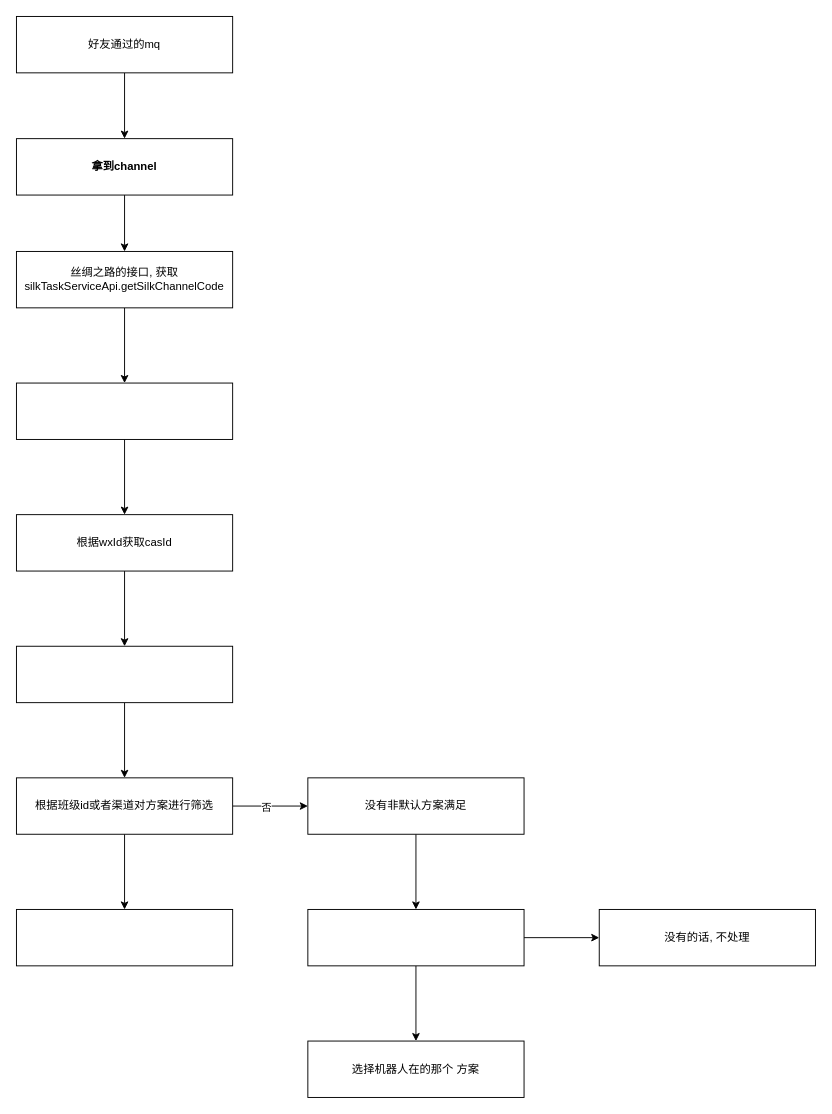
Image size: 832x1114. Some labels were removed from this diagram. The shapes that lost their labels are listed below. From the top down, each one's centre as x and y in pixels, then its label:
At point (124, 410): "SilkChannelCodeBO中的businessId就是班级id".
At point (124, 674): "根据casId查询所有未关闭的非默认方案".
At point (124, 937): "结果是多个,随机一个".
At point (415, 937): "查看开启的默认方案".
